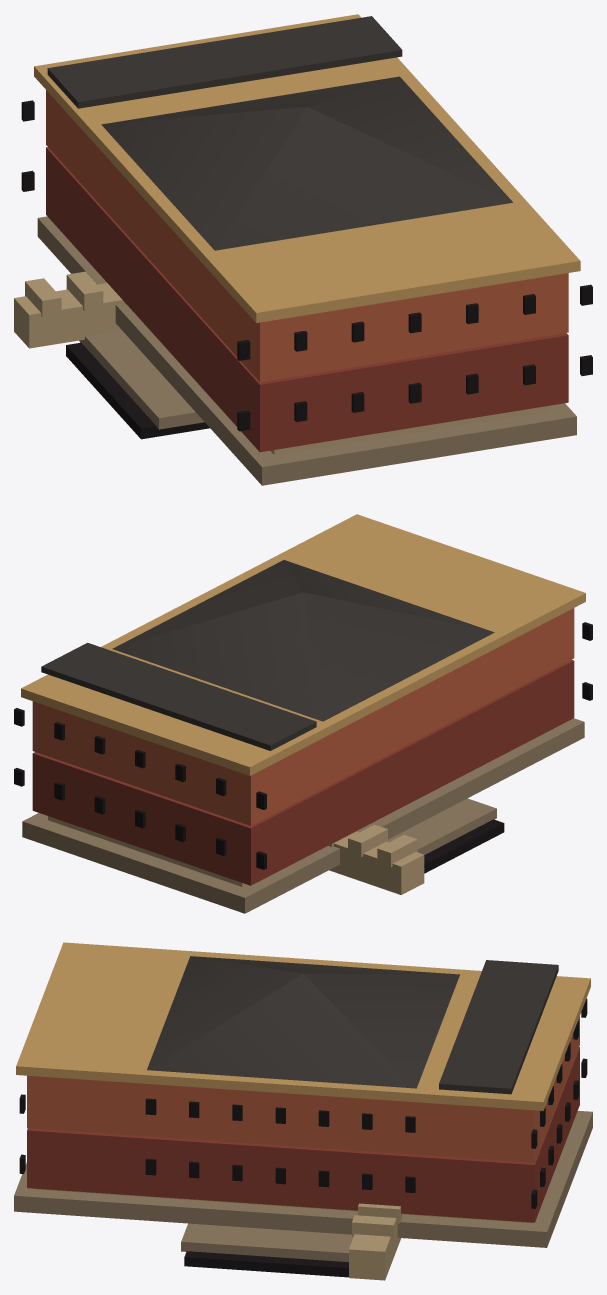
The model's file is model-medium.glb.
3 views of the same model, one above another, from view 1: azimuth 30°, elevation 25°; view 2: azimuth 150°, elevation 25°; view 3: azimuth 270°, elevation 25° (orthographic). The views are drawn at different scales.
Parts seen in each view (by area): view 1: TownEast_SingleHipRoof, TownEast_Eave_Band, TownEast_LowerStory, TownEast_UpperStory, TownEast_12m_CityPlatform, TownEast_Roof_Ridge, CityWall_Platform, Eastern_Approach_Wall, CityWall_ShadowBase, TownEast_Platform_Coping, Approach_Crenel_-5.85, Approach_Crenel_-7.2; view 2: TownEast_LowerStory, TownEast_SingleHipRoof, TownEast_Eave_Band, TownEast_UpperStory, TownEast_12m_CityPlatform, TownEast_Roof_Ridge, Eastern_Approach_Wall, CityWall_Platform, CityWall_ShadowBase, TownEast_Platform_Coping, Approach_Crenel_-7.2, Approach_Crenel_-5.85; view 3: TownEast_Eave_Band, TownEast_SingleHipRoof, TownEast_LowerStory, TownEast_UpperStory, TownEast_12m_CityPlatform, TownEast_Roof_Ridge, CityWall_Platform, CityWall_ShadowBase, Eastern_Approach_Wall, Approach_Crenel_6.300000000000001, TownEast_Platform_Coping, Approach_Crenel_4.950000000000001.
Boxes of the visible parts, left/top/right/bottom form: TownEast_SingleHipRoof: left=101, top=76, right=512, bottom=250; TownEast_Eave_Band: left=34, top=14, right=580, bottom=322; TownEast_LowerStory: left=46, top=147, right=568, bottom=452; TownEast_UpperStory: left=46, top=90, right=568, bottom=381; TownEast_12m_CityPlatform: left=37, top=216, right=576, bottom=485; TownEast_Roof_Ridge: left=47, top=16, right=402, bottom=108; CityWall_Platform: left=79, top=330, right=204, bottom=429; Eastern_Approach_Wall: left=14, top=283, right=124, bottom=348; CityWall_ShadowBase: left=66, top=342, right=209, bottom=439; TownEast_Platform_Coping: left=270, top=406, right=549, bottom=455; Approach_Crenel_-5.85: left=66, top=271, right=103, bottom=310; Approach_Crenel_-7.2: left=25, top=278, right=61, bottom=317; TownEast_LowerStory: left=32, top=659, right=574, bottom=885; TownEast_SingleHipRoof: left=112, top=560, right=494, bottom=721; TownEast_Eave_Band: left=21, top=514, right=585, bottom=775; TownEast_UpperStory: left=32, top=608, right=574, bottom=825; TownEast_12m_CityPlatform: left=22, top=718, right=584, bottom=913; TownEast_Roof_Ridge: left=41, top=642, right=316, bottom=750; Eastern_Approach_Wall: left=329, top=831, right=424, bottom=894; CityWall_Platform: left=388, top=798, right=496, bottom=854; CityWall_ShadowBase: left=424, top=819, right=504, bottom=873; TownEast_Platform_Coping: left=48, top=816, right=246, bottom=886; Approach_Crenel_-7.2: left=377, top=834, right=417, bottom=867; Approach_Crenel_-5.85: left=348, top=824, right=387, bottom=857; TownEast_Eave_Band: left=16, top=942, right=590, bottom=1110; TownEast_SingleHipRoof: left=147, top=956, right=459, bottom=1088; TownEast_LowerStory: left=27, top=1047, right=579, bottom=1222; TownEast_UpperStory: left=27, top=1016, right=579, bottom=1162; TownEast_12m_CityPlatform: left=14, top=1110, right=592, bottom=1247; TownEast_Roof_Ridge: left=439, top=960, right=558, bottom=1094; CityWall_Platform: left=181, top=1223, right=353, bottom=1262; CityWall_ShadowBase: left=184, top=1251, right=348, bottom=1277; Eastern_Approach_Wall: left=349, top=1221, right=401, bottom=1280; Approach_Crenel_6.300000000000001: left=352, top=1215, right=396, bottom=1239; TownEast_Platform_Coping: left=35, top=1188, right=531, bottom=1223; Approach_Crenel_4.950000000000001: left=358, top=1203, right=402, bottom=1223.
Size of the model in its own units: 15.81 by 8.62 by 20.48.
